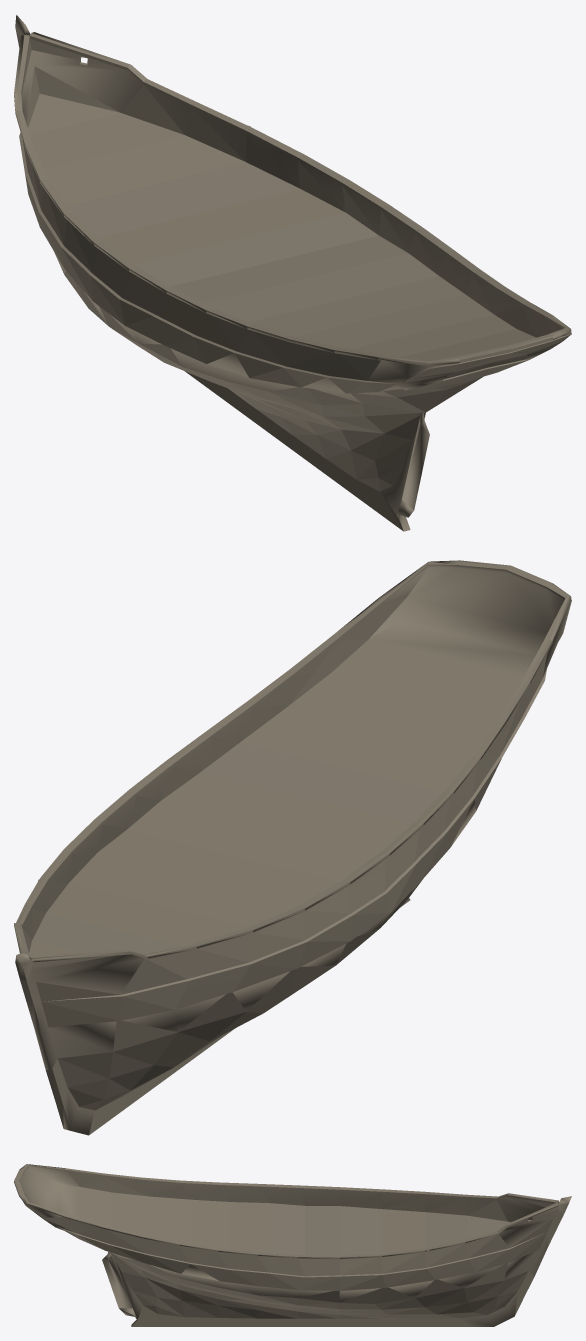
File: ship_body.fbx
3 renders of one model, top to bottom at view 1: azimuth 30°, elevation 25°; view 2: azimuth 150°, elevation 25°; view 3: azimuth 270°, elevation 25°, orthographic. The views are drawn at different scales.
Parts seen in each view (by area): view 1: Cylinder10; view 2: Cylinder10; view 3: Cylinder10.
Part boxes in pixels (<box>): Cylinder10: <box>14,15,571,531</box>; Cylinder10: <box>14,560,571,1135</box>; Cylinder10: <box>14,1164,571,1326</box>.
Size of the model in its own units: 158 by 146 by 507.
